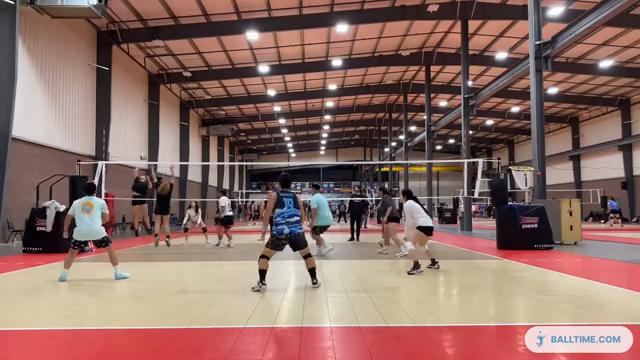attacco: (127, 160, 153, 240)
muro: (147, 161, 175, 251)
